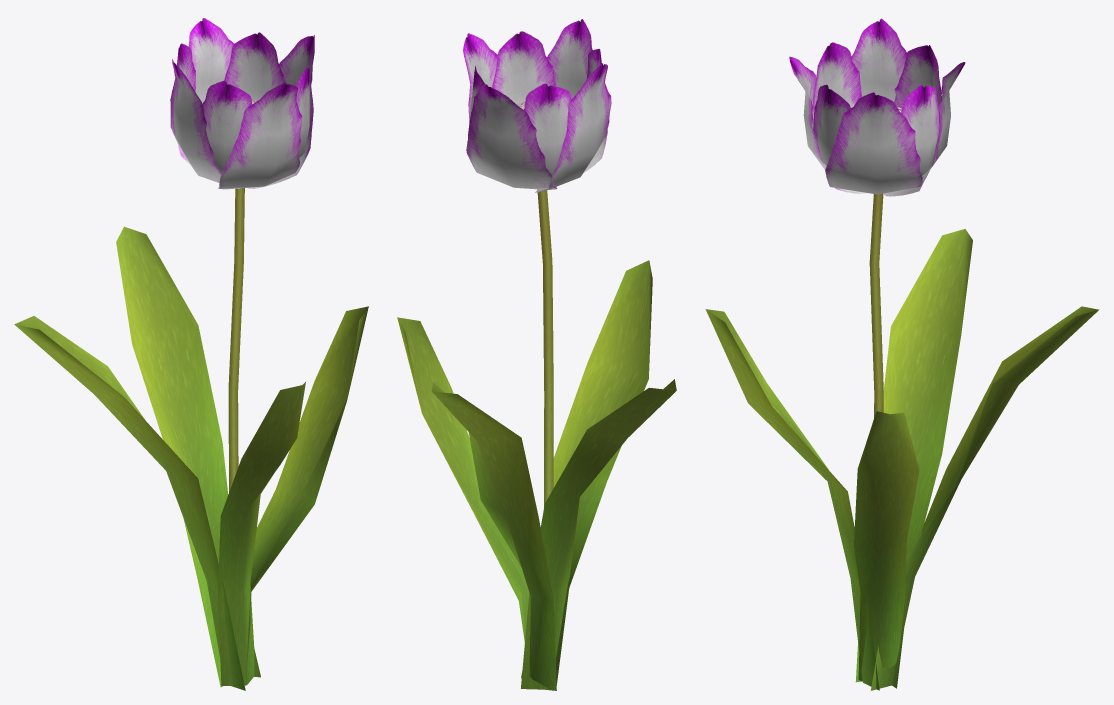
The model's file is m_flower28.fbx.
3 renders of one model, left to right at view 1: azimuth 30°, elevation 25°; view 2: azimuth 150°, elevation 25°; view 3: azimuth 270°, elevation 25°, orthographic.
Parts seen in each view (by area): view 1: mesh_flower28; view 2: mesh_flower28; view 3: mesh_flower28.
Boxes of the visible parts, bbox=[...] form: mesh_flower28: bbox=[14, 18, 368, 690]; mesh_flower28: bbox=[397, 19, 676, 690]; mesh_flower28: bbox=[705, 18, 1098, 690].
Size of the model in its own units: 0.217 by 0.4208 by 0.2347.
1 material, 1 textured.
